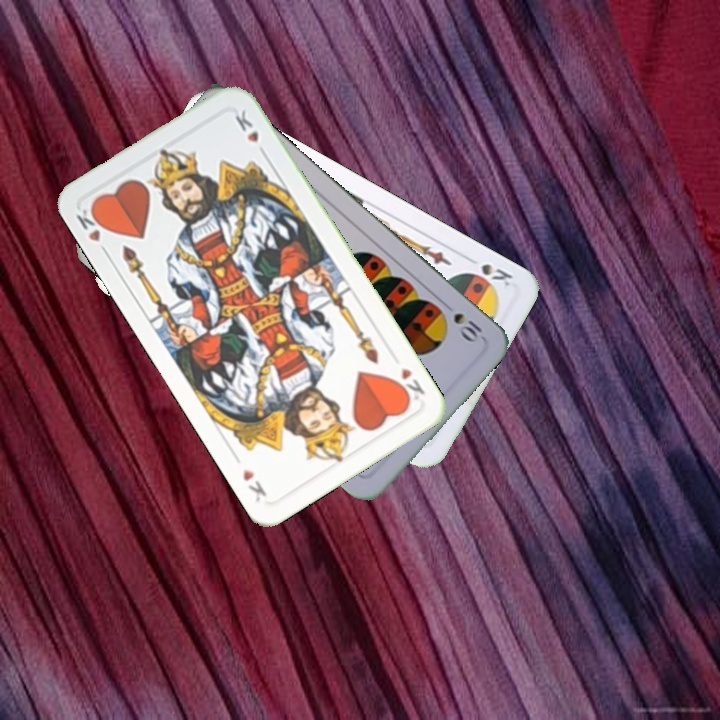HK: (72, 201, 111, 259), (391, 363, 428, 407)
S10: (438, 297, 485, 345)
SK: (477, 259, 516, 292)
